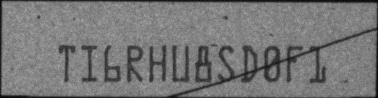0: (262, 45, 282, 81)
1: (308, 45, 327, 83)
6: (104, 45, 122, 82)
8: (194, 45, 213, 82)
D: (240, 44, 258, 82)
F: (286, 45, 304, 84)
H: (148, 44, 167, 83)
I: (80, 43, 99, 83)
R: (125, 44, 143, 83)
S: (217, 43, 235, 82)
T: (58, 44, 75, 83)
U: (171, 43, 189, 82)
